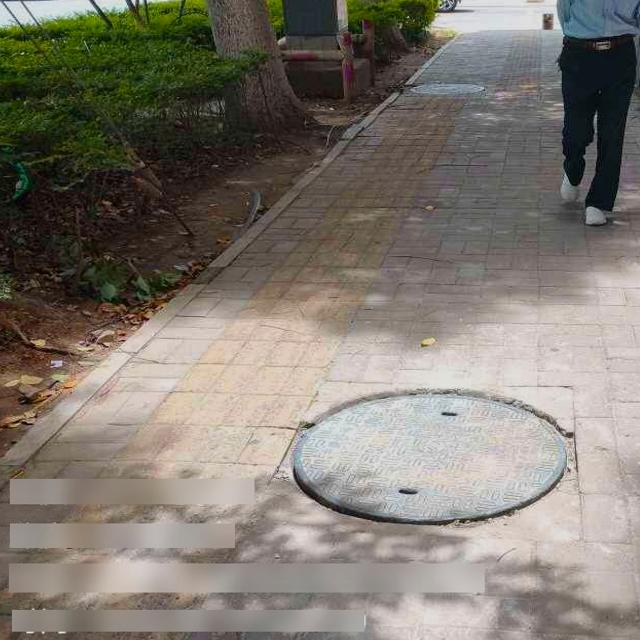circle: (284, 387, 575, 528)
